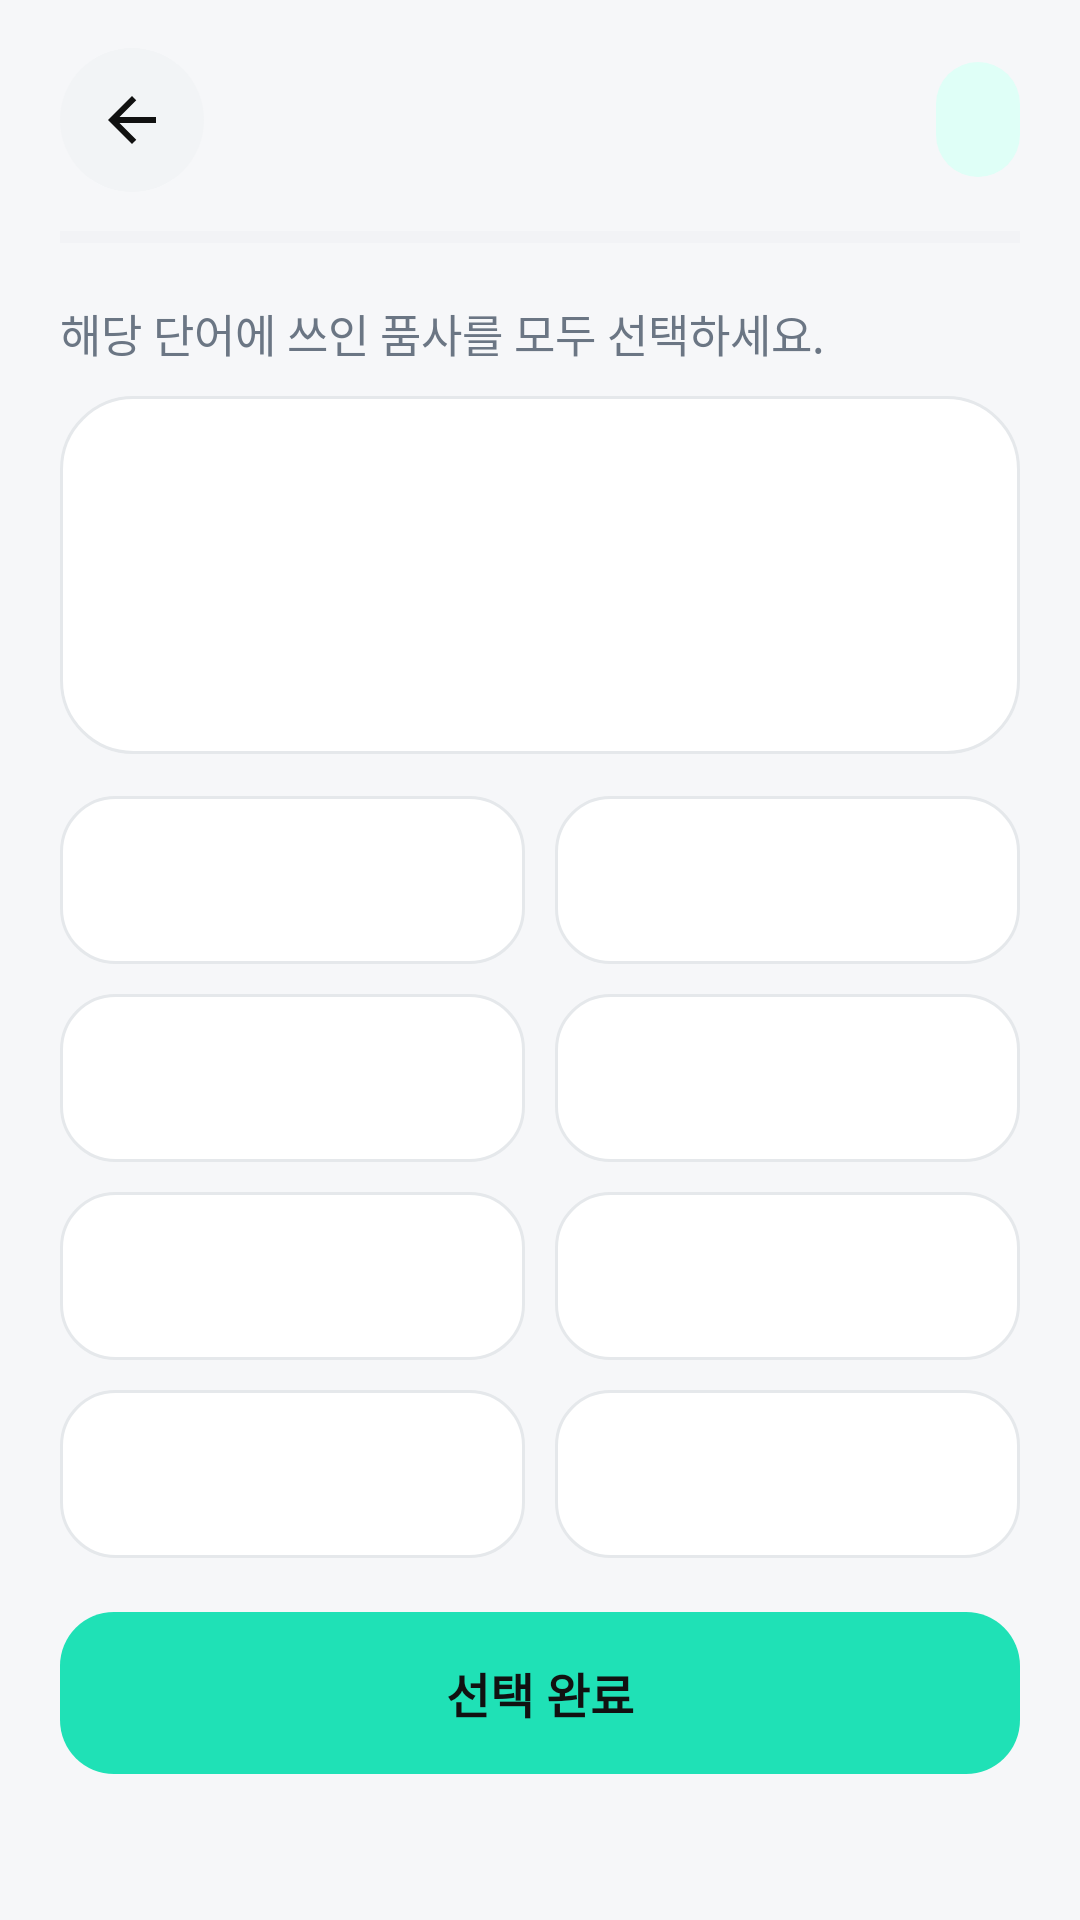

Icon bounding boxes for this 1080 x 1920 phone screenshot, format (x1=x1, y1=y1, x2=x2, y2=y2):
품사 시험 중단 및 뒤로 가기: (x1=108, y1=96, x2=156, y2=144)
